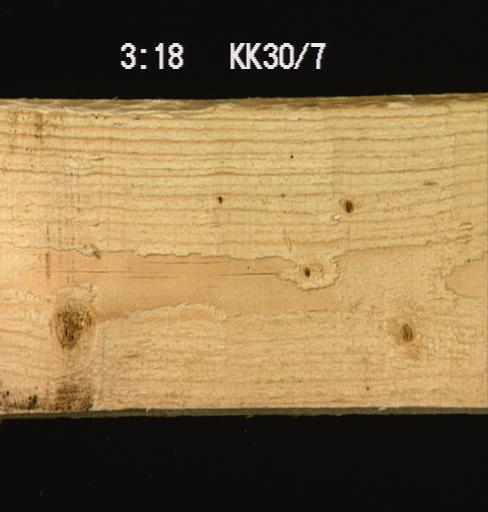dry_knot: (337, 192, 357, 218), (299, 260, 314, 281)
sound_knot: (48, 297, 95, 360), (396, 319, 418, 347)
split: (0, 239, 292, 268)
